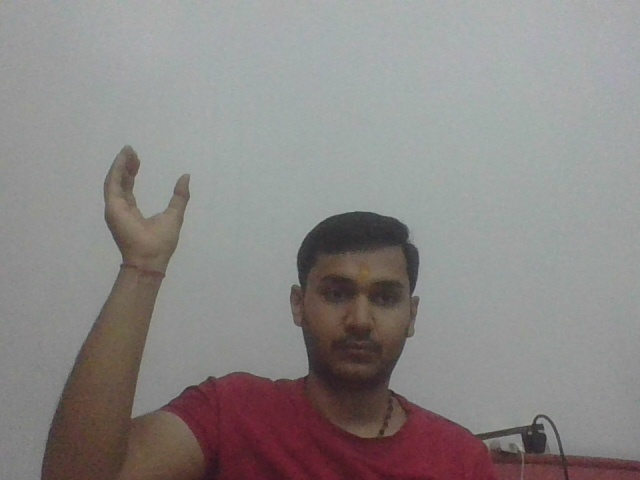U: (100, 140, 193, 263)
